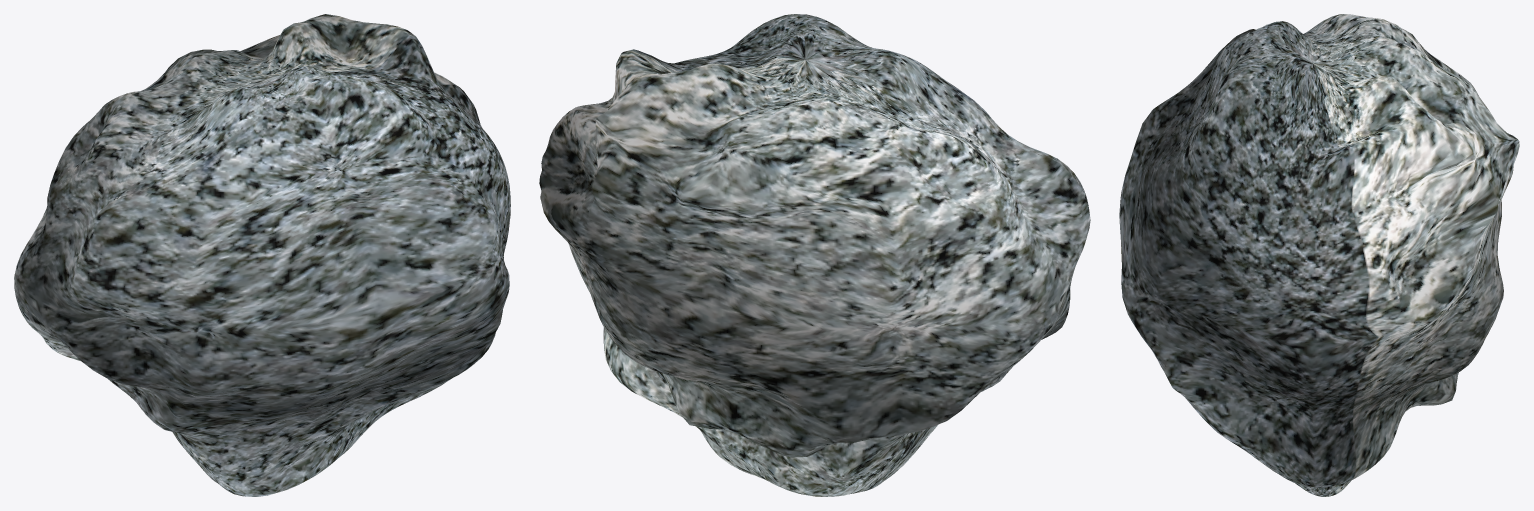
Rendered from meteor.dae.
The picture shows the model from 3 angles, left to right: view 1: azimuth 30°, elevation 25°; view 2: azimuth 150°, elevation 25°; view 3: azimuth 270°, elevation 25°; orthographic projection. The views are drawn at different scales.
Parts seen in each view (by area): view 1: pSphere1; view 2: pSphere1; view 3: pSphere1.
Part boxes in pixels (left/top/right/bottom): pSphere1: left=14, top=14, right=510, bottom=496; pSphere1: left=539, top=14, right=1090, bottom=496; pSphere1: left=1119, top=14, right=1519, bottom=496.
Bounding box in the file's own units: 4.92 × 4.23 × 3.62.
